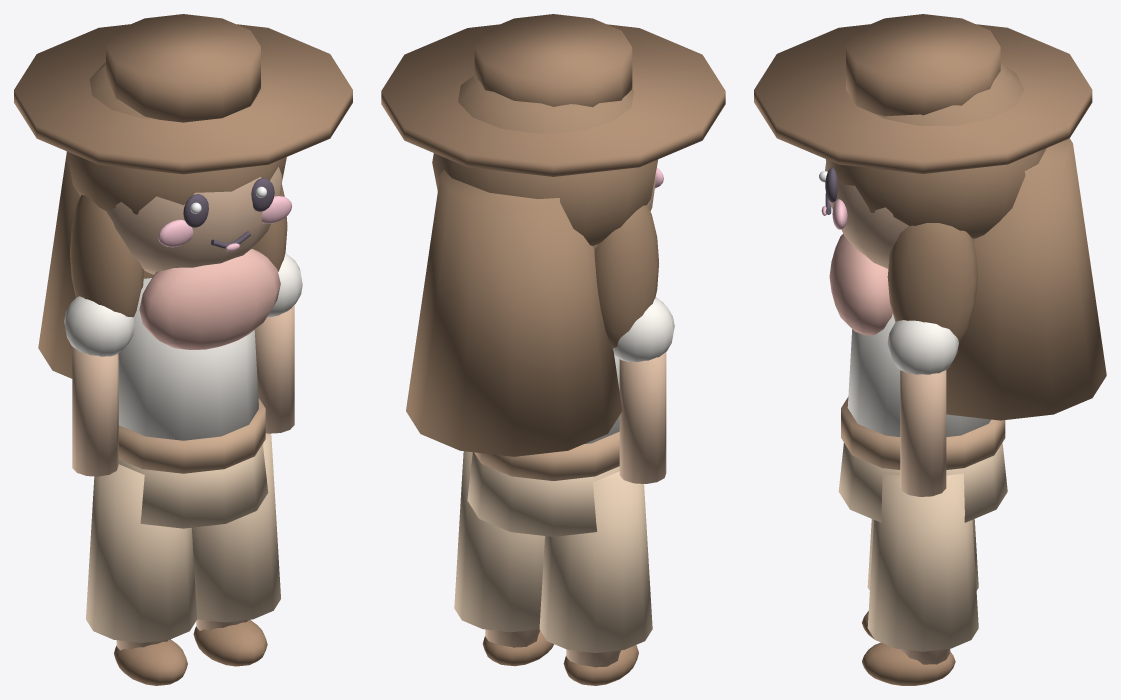
Rendered from Char_Gaucho.fbx.
3 renders of one model, left to right at view 1: azimuth 30°, elevation 25°; view 2: azimuth 150°, elevation 25°; view 3: azimuth 270°, elevation 25°, orthographic.
Parts seen in each view (by area): view 1: Char_Gaucho; view 2: Char_Gaucho; view 3: Char_Gaucho.
Part boxes in pixels (x1,y1,x2,y2): Char_Gaucho: (14,14,352,685); Char_Gaucho: (381,14,725,685); Char_Gaucho: (754,14,1106,685).
Size of the model in its own units: 0.784 by 1.57 by 0.8176.
